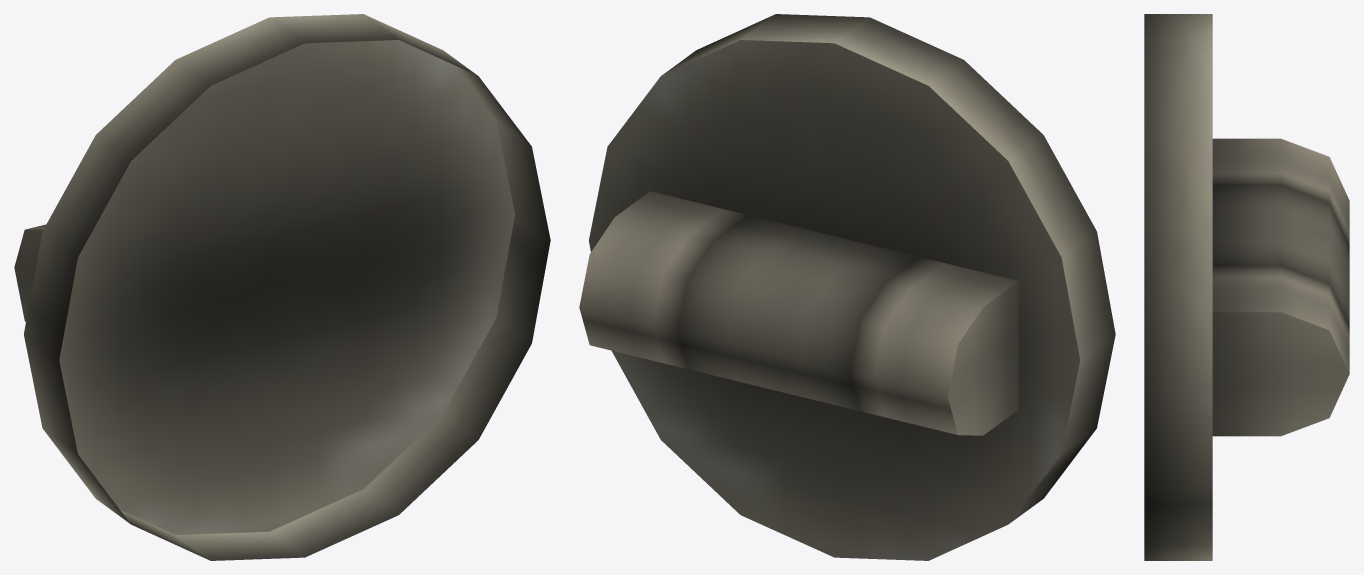
Rendered from eridani_solar_pivot.obj.
The picture shows the model from 3 angles, left to right: view 1: azimuth 30°, elevation 25°; view 2: azimuth 150°, elevation 25°; view 3: azimuth 270°, elevation 25°; orthographic projection. The views are drawn at different scales.
Parts seen in each view (by area): view 1: mesh1; view 2: mesh1; view 3: mesh1.
Part boxes in pixels (x1,y1,x2,y2): mesh1: (14, 14, 550, 560); mesh1: (579, 14, 1115, 560); mesh1: (1144, 14, 1349, 560).
Bounding box in the file's own units: 0.1 × 0.1 × 0.0375.
Materials: 1 (1 with a texture image).
